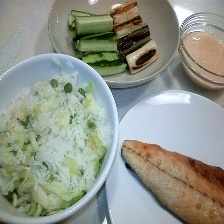rice: (1, 70, 113, 216)
